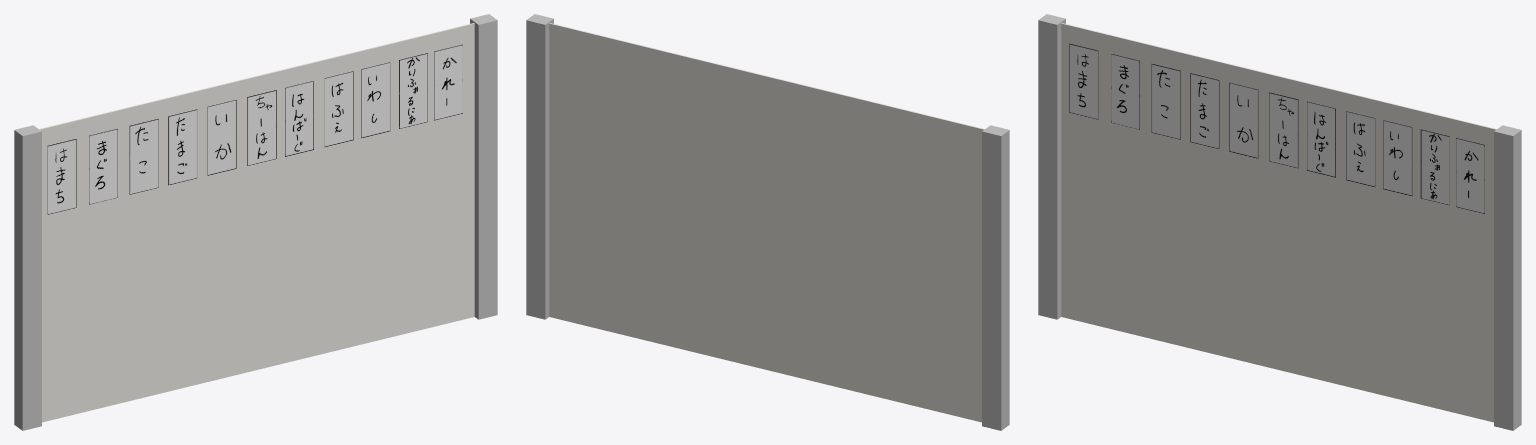
File: kabe.fbx
3 views of the same model, side by side, from view 1: azimuth 30°, elevation 25°; view 2: azimuth 150°, elevation 25°; view 3: azimuth 330°, elevation 25° (orthographic).
Parts seen in each view (by area): view 1: pPlane13; view 2: pPlane13; view 3: pPlane13.
Part boxes in pixels (x1,y1,x2,y2): pPlane13: (14,14,497,430); pPlane13: (526,14,1009,430); pPlane13: (1038,14,1521,430).
Size of the model in its own units: 32.07 by 19.02 by 1.
